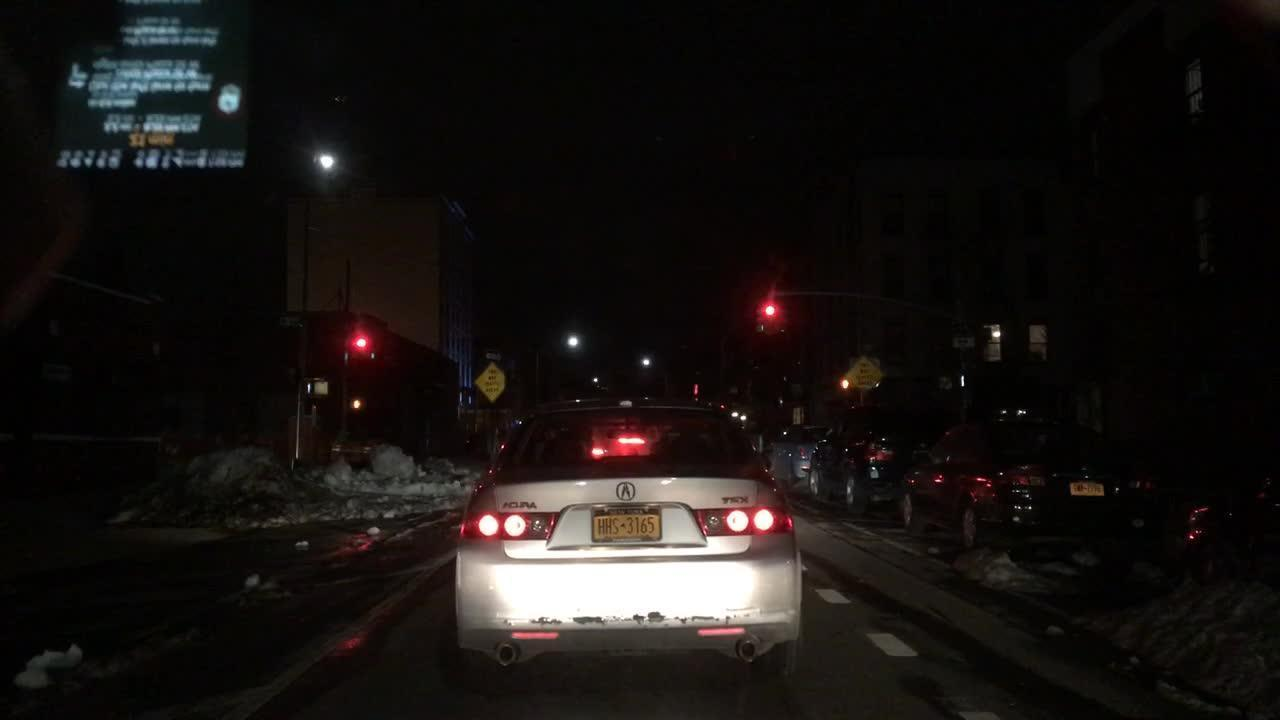acura: (615, 478, 644, 505)
